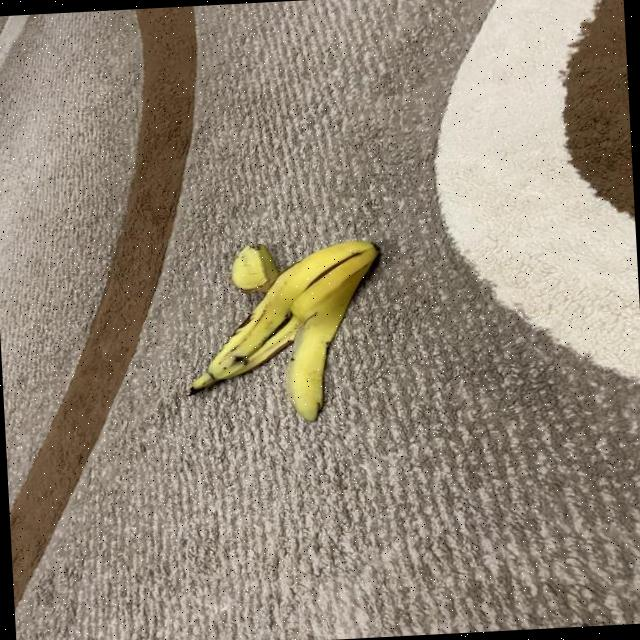banana-peel: (179, 235, 387, 429)
